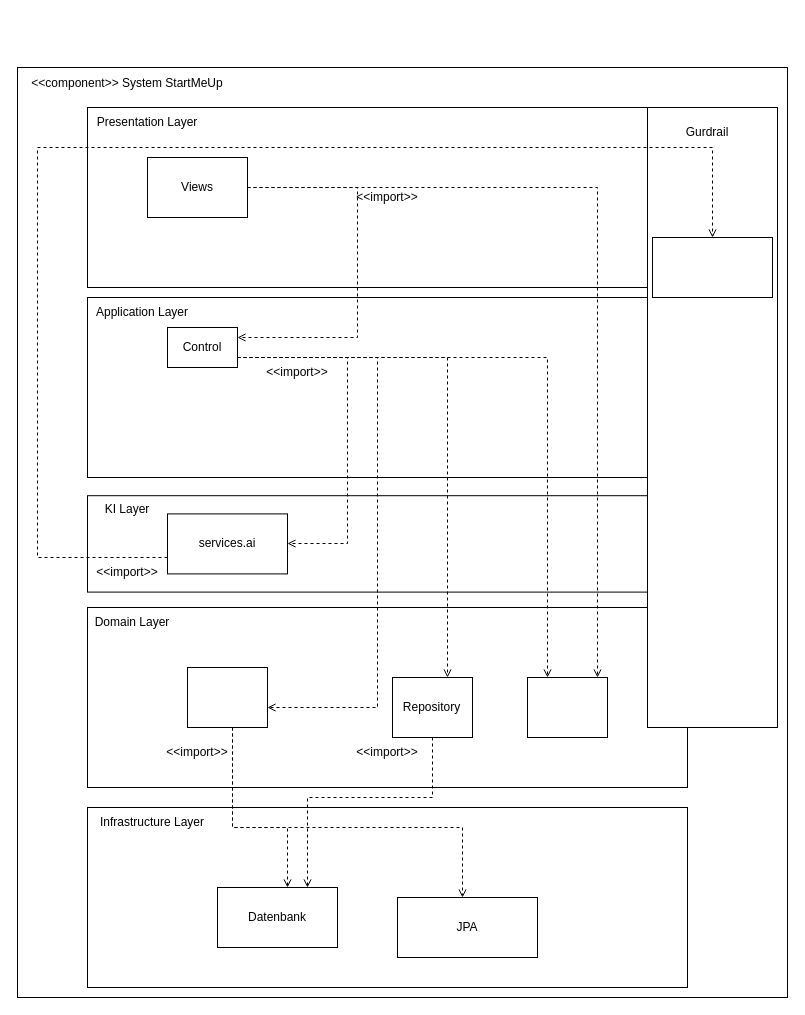
Some shapes in this 805 by 1015 pixel diagram are drawn without their labels. Here are the shapes that lost their labels. From the top down, the centre of each, then its label:
At [712,267]: "KIGurd".
At [227,697]: "Entities".
At [567,707]: "DTO".
